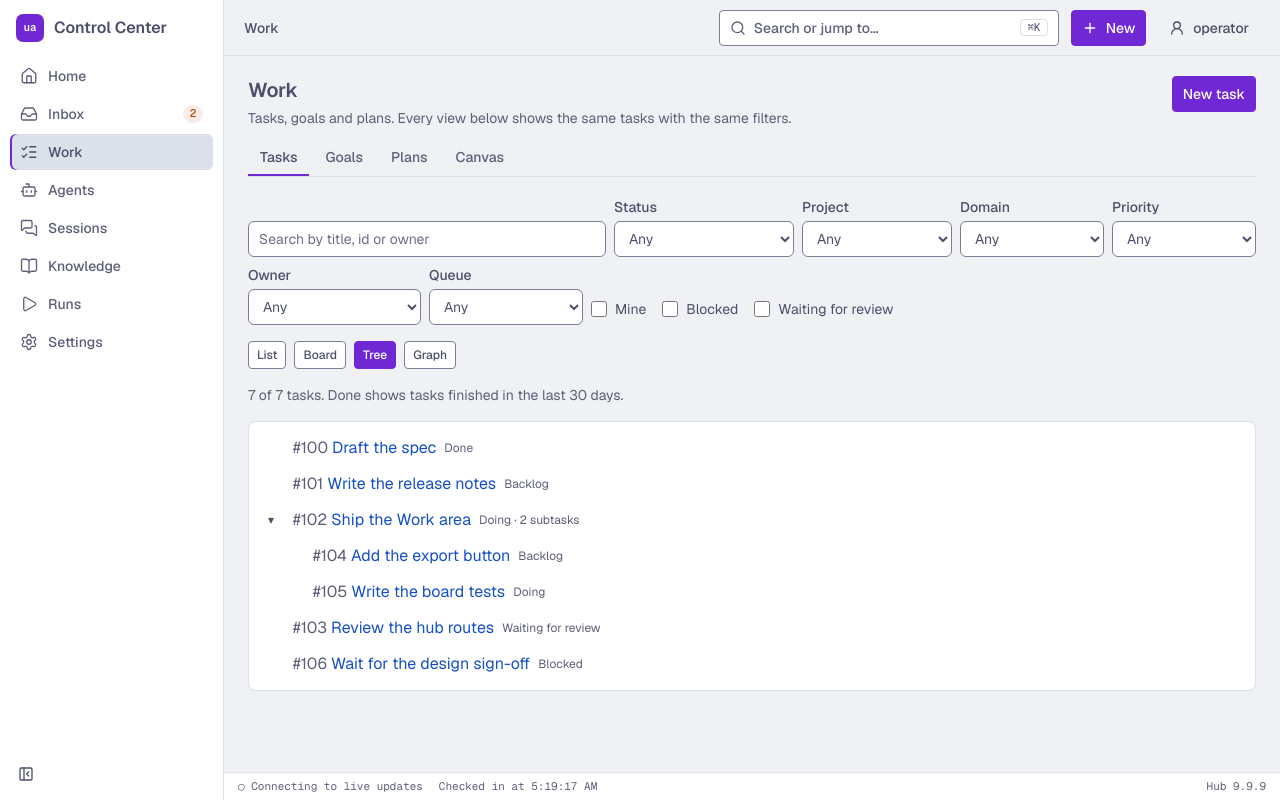
Scenario: work: task set › tree view nests subtasks and collapses them
This screenshot has width=1280, height=800.
expect the link "#105 Write the board tests" is shown: met, box [313,580,505,604]
Click the button named "Collapse subtasks of #102" at (271, 520), box [257,506,285,534]
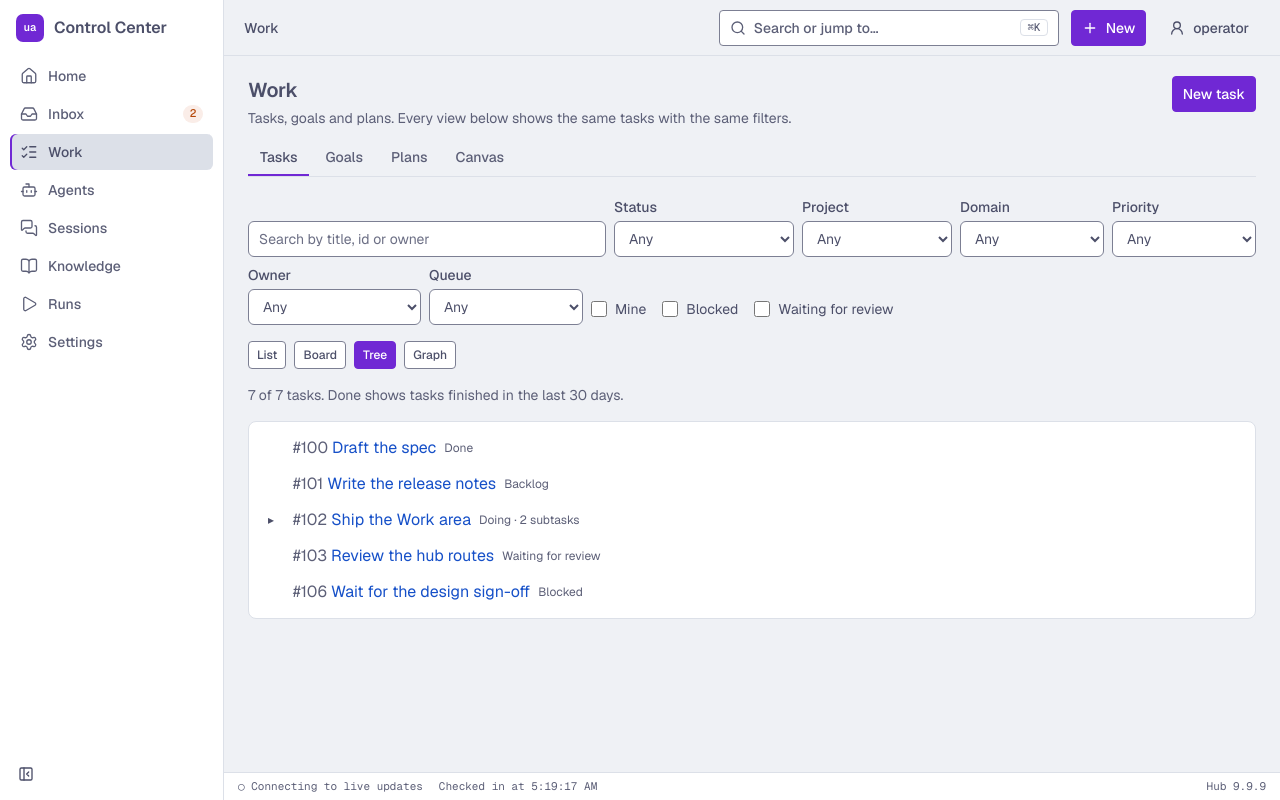
expect the link "#105" is gone: met
